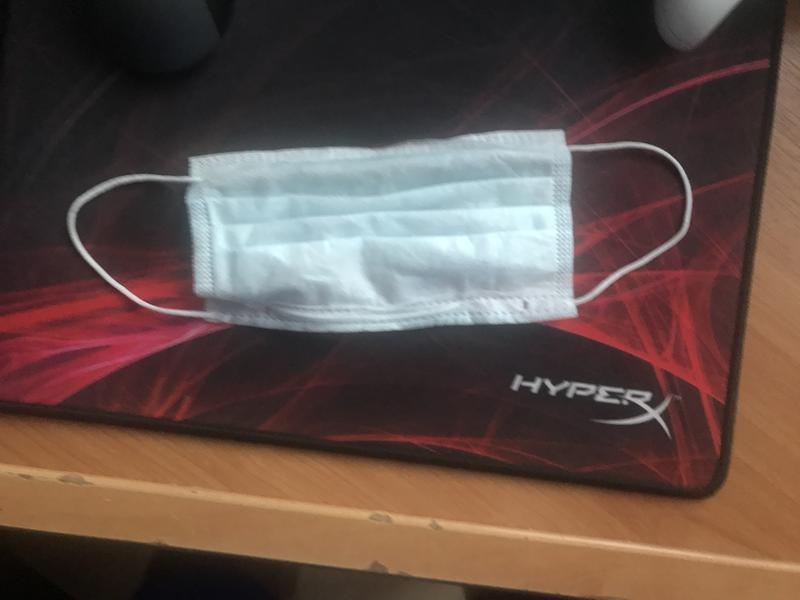medical_mask: (67, 132, 691, 325)
